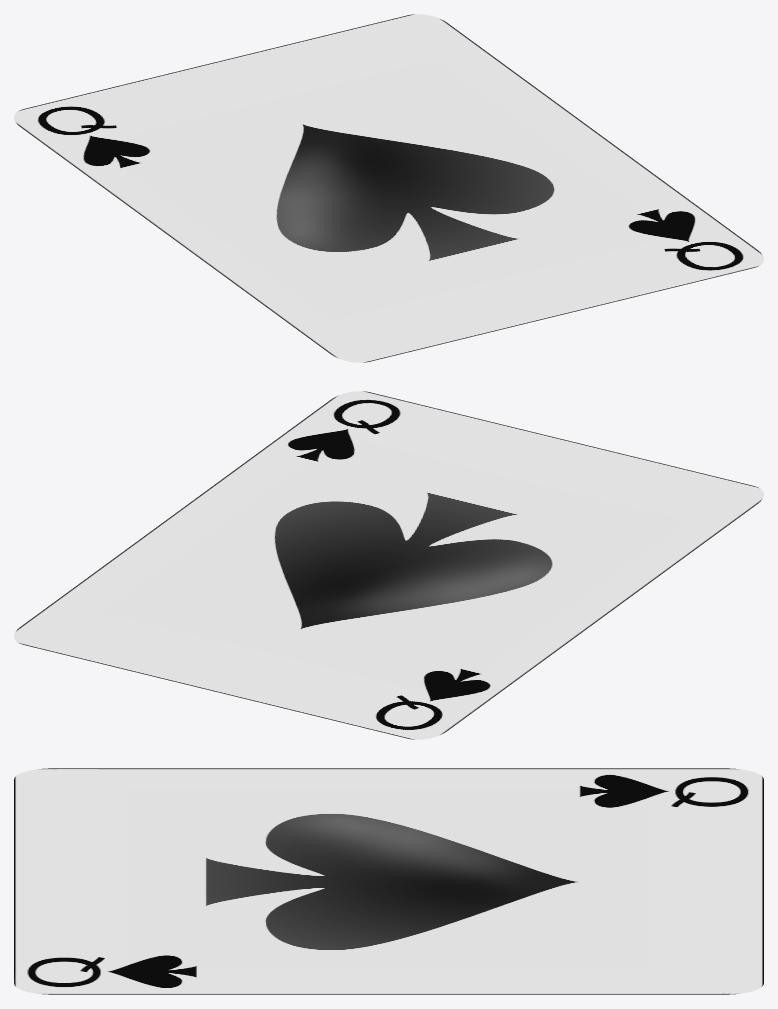
File: card.fbx
The picture shows the model from 3 angles, top to bottom: view 1: azimuth 30°, elevation 25°; view 2: azimuth 150°, elevation 25°; view 3: azimuth 270°, elevation 25°; orthographic projection. The views are drawn at different scales.
Visible parts, largest first — view 1: Plane; view 2: Plane; view 3: Plane.
Boxes of the visible parts, box(x1,y1,x2,y2) form: Plane: box(14, 14, 763, 362); Plane: box(14, 391, 763, 739); Plane: box(14, 768, 763, 994).
Size of the model in its own units: 25.4 by 5.8e-06 by 35.6.
Materials: 1 (1 with a texture image).
